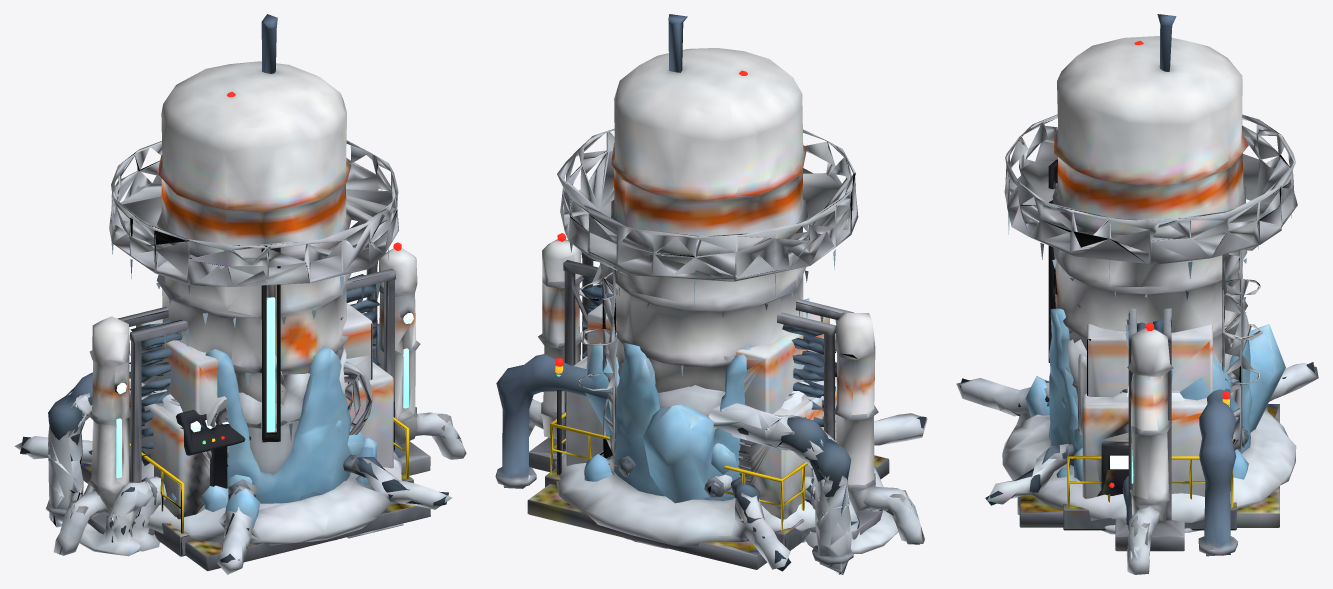
Rendered from datacenter_decor_cooling.glb.
3 views of the same model, side by side, from view 1: azimuth 30°, elevation 25°; view 2: azimuth 150°, elevation 25°; view 3: azimuth 270°, elevation 25° (orthographic). The views are drawn at different scales.
Parts seen in each view (by area): view 1: CoolTower, Exchanger, Chiller_A, PumpStation, Chiller_B, Tank_Ice, IceBig_A; view 2: CoolTower, Exchanger, PumpStation, Chiller_A, IceBig_A, Chiller_B, Tank_Ice, FrozenBot; view 3: CoolTower, Exchanger, Chiller_A, PumpStation, Chiller_B, IceBig_A, Tank_Ice.
Part boxes in pixels (x1,y1,x2,y2): CoolTower: (14,14,452,574); Exchanger: (53,242,466,555); Chiller_A: (79,362,394,556); PumpStation: (46,323,413,556); Chiller_B: (130,303,372,551); Tank_Ice: (142,386,260,542); IceBig_A: (160,429,365,542); CoolTower: (527,14,927,571); Exchanger: (529,233,924,544); PumpStation: (495,354,853,574); Chiller_A: (565,356,898,554); IceBig_A: (585,343,715,542); Chiller_B: (587,296,829,548); Tank_Ice: (584,381,823,542); FrozenBot: (711,443,736,474); CoolTower: (956,14,1318,527); Exchanger: (1112,308,1184,574); Chiller_A: (1082,389,1207,498); PumpStation: (1017,388,1248,556); Chiller_B: (1078,324,1212,434); IceBig_A: (1072,324,1285,449); Tank_Ice: (1025,376,1248,534).
Size of the model in its own units: 4.37 by 4.91 by 3.33.
6 materials, 1 textured.
